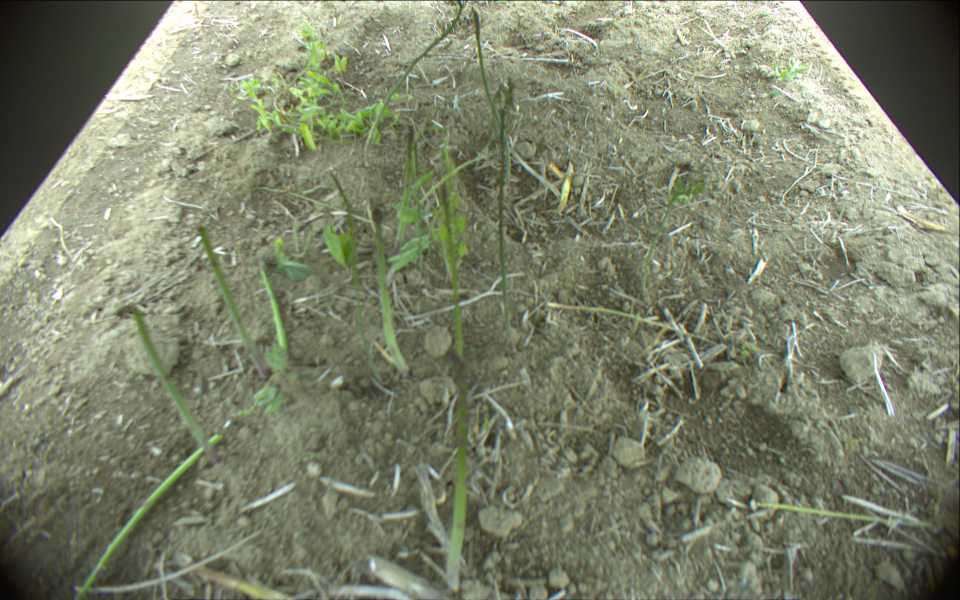aspa: (75, 430, 224, 600), (355, 2, 464, 165), (132, 303, 221, 461), (197, 224, 270, 380), (547, 301, 734, 346), (368, 208, 409, 372), (733, 500, 934, 530), (438, 182, 469, 363), (446, 377, 470, 592), (473, 8, 509, 132), (499, 105, 517, 346), (255, 253, 292, 350)
